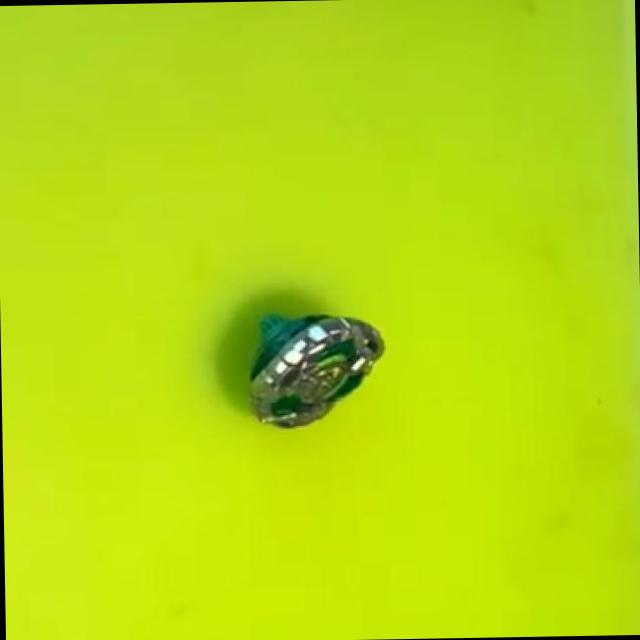Beyblade: (244, 308, 385, 428)
